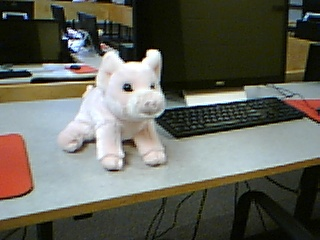piggy: (57, 46, 169, 172)
